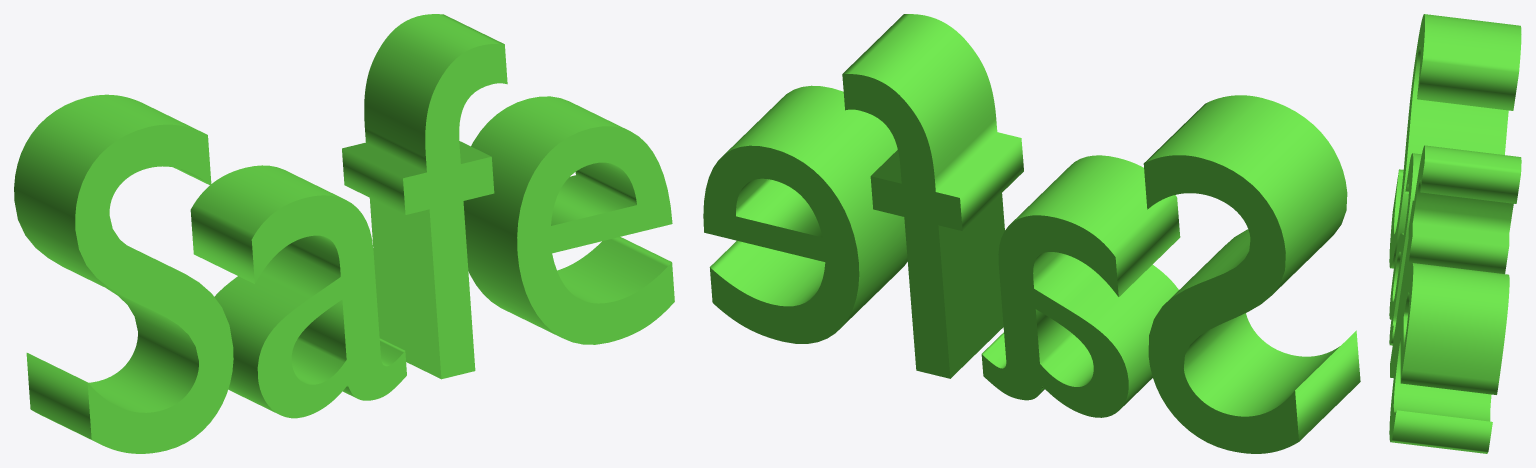
File: safe.glb
3 views of the same model, side by side, from view 1: azimuth 30°, elevation 25°; view 2: azimuth 150°, elevation 25°; view 3: azimuth 270°, elevation 25° (orthographic). The views are drawn at different scales.
Parts seen in each view (by area): view 1: Text; view 2: Text; view 3: Text.
Part boxes in pixels (left/top/right/bottom): Text: left=14, top=14, right=674, bottom=453; Text: left=703, top=14, right=1360, bottom=453; Text: left=1389, top=14, right=1521, bottom=453.
Size of the model in its own units: 1.76 by 0.9179 by 0.4339.
